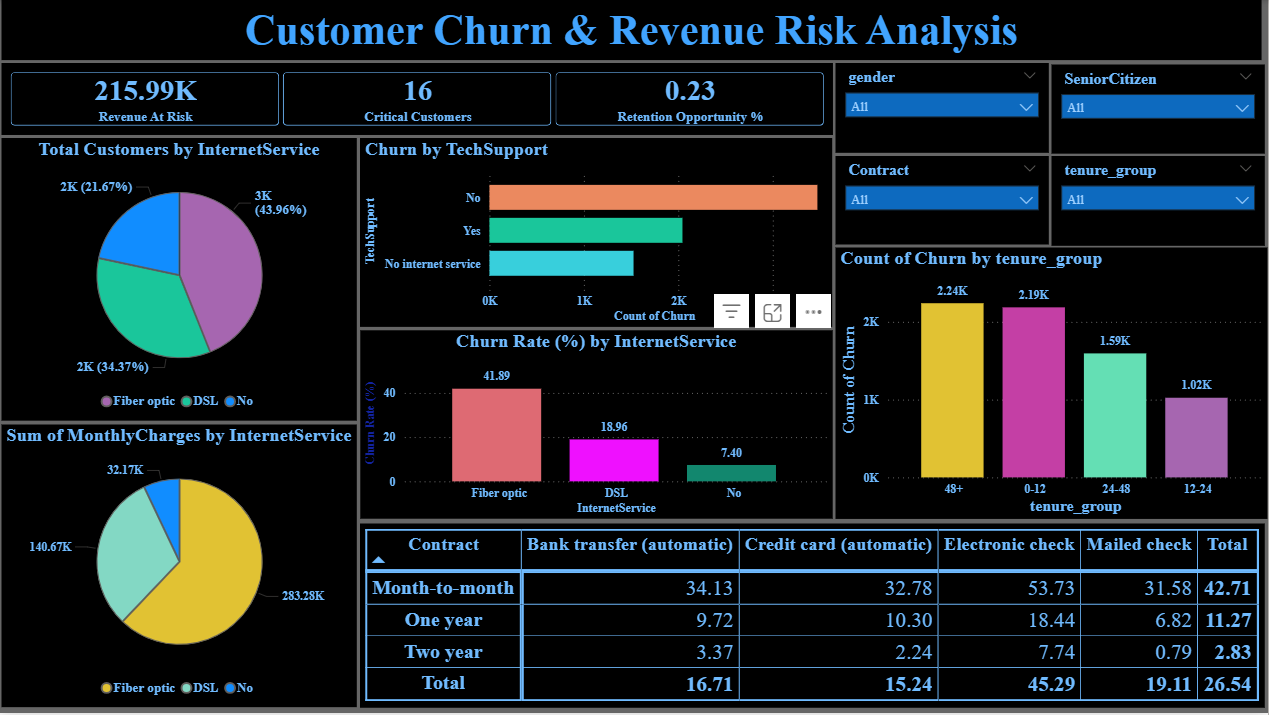

This screenshot's page, from the dashboard's own definition file:
{"tool":"powerbi","page":{"name":"Page 2","canvas":[1280,720],"ordinal":1},"visuals":[{"type":"textbox","box":[1.5,0,1271.9,60.6],"z":0},{"type":"clusteredBarChart","title":"Churn by TechSupport","fields":{"Y":["CountNonNull(Telco-Customer-Churn_With_Predictions.Churn)"],"Category":["Telco-Customer-Churn_With_Predictions.TechSupport"]},"box":[363.4,139.3,477,190.8],"z":1000},{"type":"pieChart","fields":{"Category":["Telco-Customer-Churn_With_Predictions.InternetService"],"Y":["Telco-Customer-Churn_With_Predictions.Total Customers"]},"box":[1.2,138.8,358.8,285],"z":2000},{"type":"pivotTable","fields":{"Rows":["Telco-Customer-Churn_With_Predictions.Contract"],"Columns":["Telco-Customer-Churn_With_Predictions.PaymentMethod"],"Values":["Telco-Customer-Churn_With_Predictions.Churn Rate (%)"]},"box":[364,528.5,913.1,186.2],"z":3000},{"type":"columnChart","fields":{"Category":["Telco-Customer-Churn_With_Predictions.tenure_group"],"Y":["CountNonNull(Telco-Customer-Churn_With_Predictions.Churn)"]},"box":[843.4,249.8,436.1,274.1],"z":4000},{"type":"slicer","fields":{"Values":["Telco-Customer-Churn_With_Predictions.gender"]},"box":[843.4,63.6,215,90.9],"z":5000},{"type":"slicer","fields":{"Values":["Telco-Customer-Churn_With_Predictions.SeniorCitizen"]},"box":[1061,65.1,215,90],"z":6000},{"type":"slicer","fields":{"Values":["Telco-Customer-Churn_With_Predictions.Contract"]},"box":[843.4,157.5,215,89.3],"z":7000},{"type":"pieChart","fields":{"Category":["Telco-Customer-Churn_With_Predictions.InternetService"],"Y":["Sum(Telco-Customer-Churn_With_Predictions.MonthlyCharges)"]},"box":[1,429,358.9,285],"z":8000},{"type":"slicer","fields":{"Values":["Telco-Customer-Churn_With_Predictions.tenure_group"]},"box":[1061.5,157,215,90.9],"z":9000},{"type":"cardVisual","fields":{"Data":["Telco-Customer-Churn_With_Predictions.Revenue At Risk","Telco-Customer-Churn_With_Predictions.Critical Customers","Telco-Customer-Churn_With_Predictions.Retention Opportunity %"]},"box":[1.5,63.6,839,72.7],"z":10000},{"type":"columnChart","fields":{"Category":["Telco-Customer-Churn_With_Predictions.InternetService"],"Y":["Telco-Customer-Churn_With_Predictions.Churn Rate (%)"]},"box":[363.4,333.1,477,190.8],"z":11000}]}

Visuals, with their boxes in screenshot pixels (x1, y1, x2, y2), scaled from the page's 1280x720 canvas onto the 1269x715 screenshot:
textbox: 1 0 1262 60
"Churn by TechSupport" clusteredBarChart: 360 138 833 328
pieChart - Telco-Customer-Churn_With_Predictions.InternetService x Telco-Customer-Churn_With_Predictions.Total Customers: 1 138 357 421
pivotTable - Telco-Customer-Churn_With_Predictions.Contract x Telco-Customer-Churn_With_Predictions.PaymentMethod: 361 525 1266 710
columnChart - Telco-Customer-Churn_With_Predictions.tenure_group x CountNonNull(Telco-Customer-Churn_With_Predictions.Churn): 836 248 1268 520
slicer - Telco-Customer-Churn_With_Predictions.gender: 836 63 1049 153
slicer - Telco-Customer-Churn_With_Predictions.SeniorCitizen: 1052 65 1265 154
slicer - Telco-Customer-Churn_With_Predictions.Contract: 836 156 1049 245
pieChart - Telco-Customer-Churn_With_Predictions.InternetService x Sum(Telco-Customer-Churn_With_Predictions.MonthlyCharges): 1 426 357 709
slicer - Telco-Customer-Churn_With_Predictions.tenure_group: 1052 156 1266 246
cardVisual - Telco-Customer-Churn_With_Predictions.Revenue At Risk x Telco-Customer-Churn_With_Predictions.Critical Customers: 1 63 833 135
columnChart - Telco-Customer-Churn_With_Predictions.InternetService x Telco-Customer-Churn_With_Predictions.Churn Rate (%): 360 331 833 520
